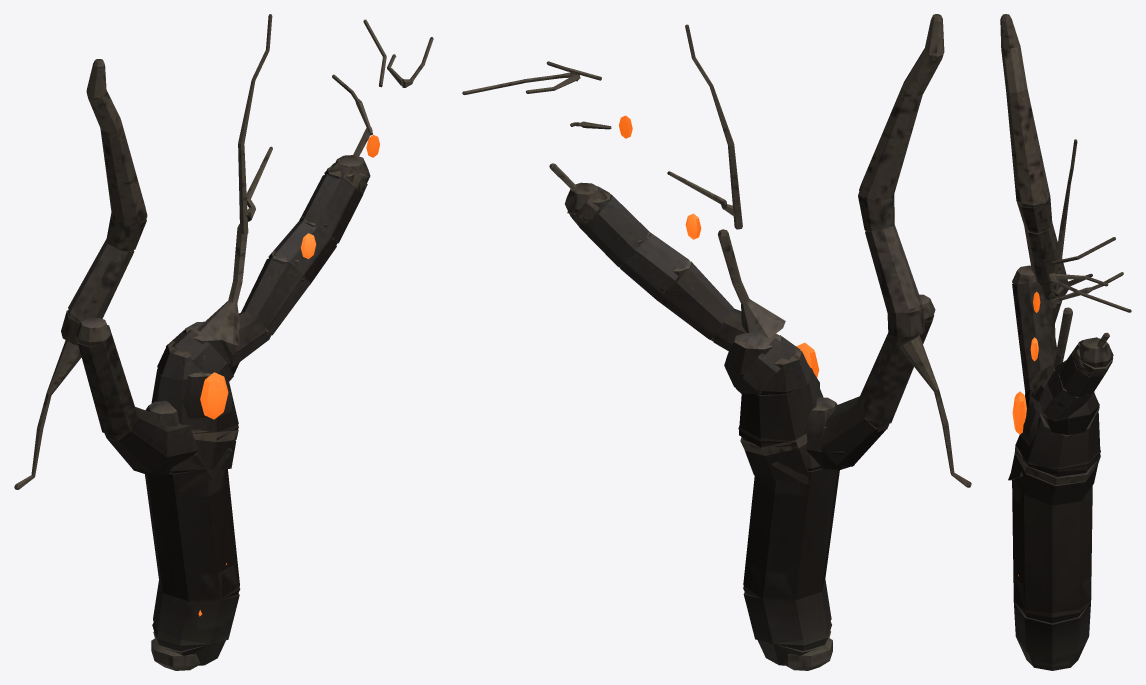
The model's file is ashland-lichen-tree-flaming.glb.
The picture shows the model from 3 angles, left to right: view 1: azimuth 30°, elevation 25°; view 2: azimuth 150°, elevation 25°; view 3: azimuth 270°, elevation 25°; orthographic projection. The views are drawn at different scales.
Parts seen in each view (by area): view 1: body; view 2: body; view 3: body.
Part boxes in pixels (bbox=[...]): body: bbox=[14, 14, 433, 670]; body: bbox=[462, 14, 971, 670]; body: bbox=[1000, 14, 1131, 670].
Bounding box in the file's own units: 3.17 × 4.3 × 0.849.
2 materials, 2 textured.
